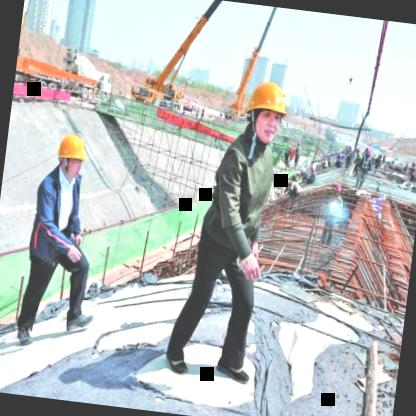helmet: (238, 73, 296, 149), (53, 130, 90, 180)
